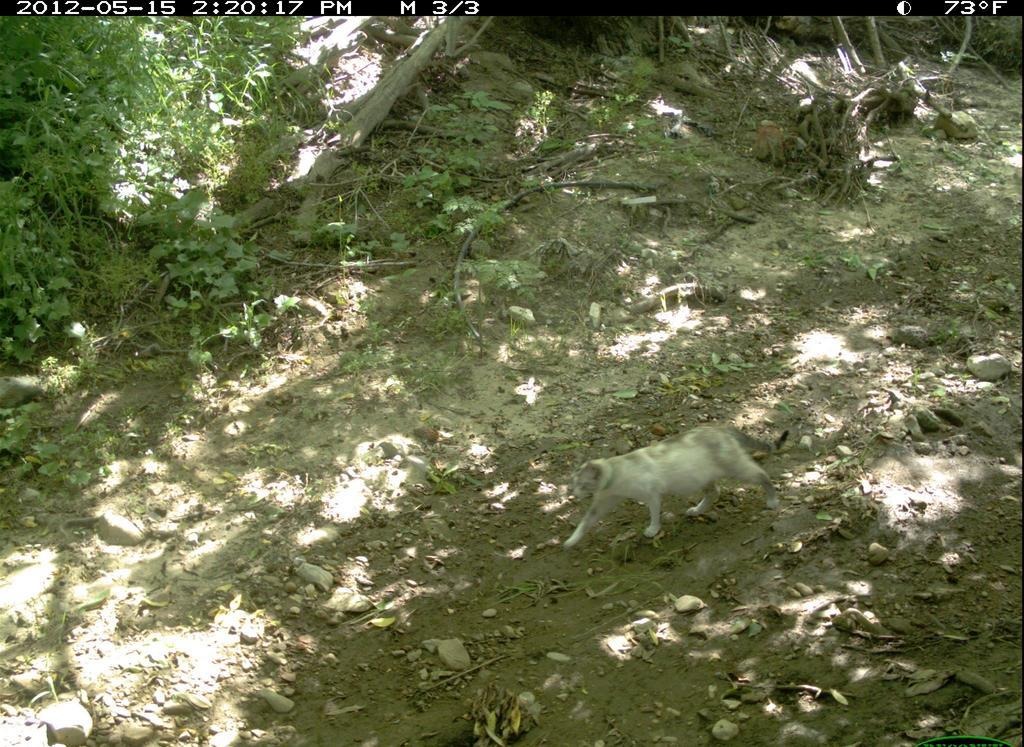cat: (545, 417, 801, 559)
